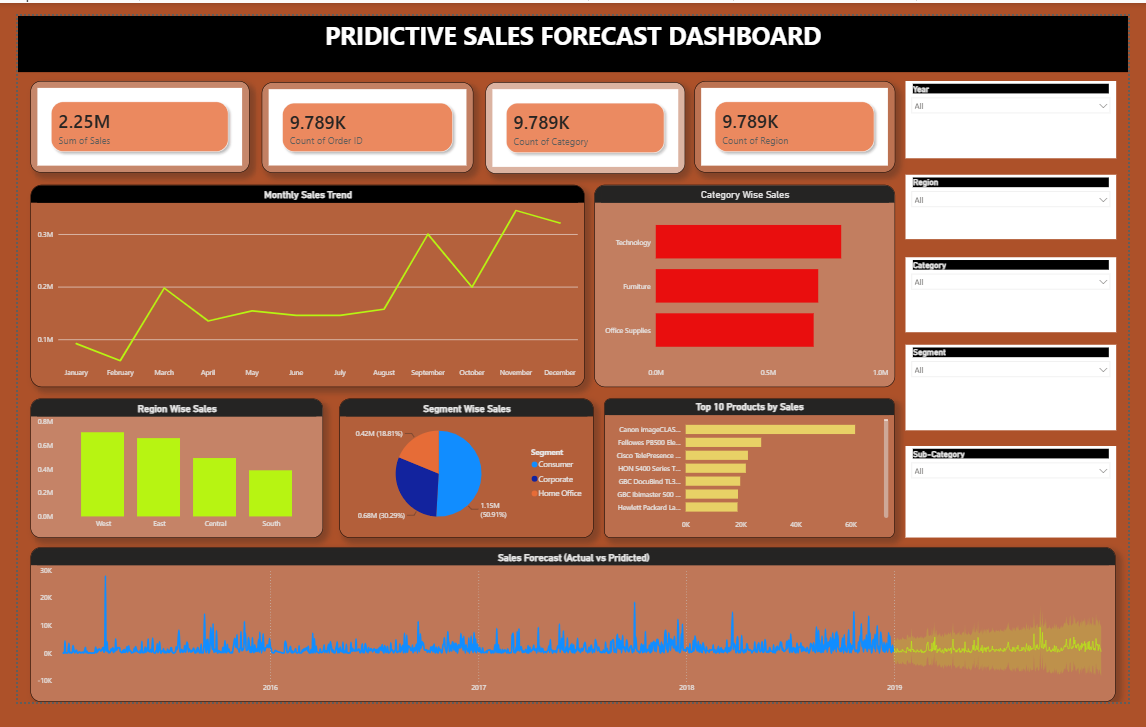

Layout of this report page (visuals, bound fields, positions):
{"tool":"powerbi","page":{"name":"Page 1","canvas":[1930,1194],"ordinal":0},"visuals":[{"type":"textbox","box":[0,0,1930.4,97.2],"z":0},{"type":"lineChart","title":"Monthly Sales Trend","fields":{"Category":["Cleaned_Superstore_Sales (1).Order Date.Variation.Date Hierarchy.Month"],"Y":["Sum(Cleaned_Superstore_Sales (1).Sales)"]},"box":[22.8,293.8,964.2,351.7],"z":1},{"type":"cardVisual","fields":{"Data":["Sum(Cleaned_Superstore_Sales (1).Sales)"]},"box":[22.8,113.8,380.7,159.3],"z":2},{"type":"cardVisual","fields":{"Data":["CountNonNull(Cleaned_Superstore_Sales (1).Order ID)"]},"box":[424.2,115.9,368.3,157.2],"z":3},{"type":"cardVisual","fields":{"Data":["CountNonNull(Cleaned_Superstore_Sales (1).Category)"]},"box":[813.1,115.9,347.6,159.3],"z":4},{"type":"cardVisual","fields":{"Data":["CountNonNull(Cleaned_Superstore_Sales (1).Region)"]},"box":[1175.2,113.8,349.7,159.3],"z":5},{"type":"barChart","title":"Category Wise Sales","fields":{"Category":["Cleaned_Superstore_Sales (1).Category"],"Y":["Sum(Cleaned_Superstore_Sales (1).Sales)"]},"box":[1001.4,293.8,523.5,351.7],"z":6},{"type":"columnChart","title":"Region Wise Sales","fields":{"Category":["Cleaned_Superstore_Sales (1).Region"],"Y":["Sum(Cleaned_Superstore_Sales (1).Sales)"]},"box":[22.8,664.2,509,242.1],"z":7},{"type":"pieChart","title":"Segment Wise Sales","fields":{"Category":["Cleaned_Superstore_Sales (1).Segment"],"Y":["Sum(Cleaned_Superstore_Sales (1).Sales)"]},"box":[558.6,664.2,442.8,242.1],"z":8},{"type":"barChart","title":"Top 10 Products by Sales","fields":{"Category":["Cleaned_Superstore_Sales (1).Product Name"],"Y":["Sum(Cleaned_Superstore_Sales (1).Sales)"]},"box":[1020,664.2,504.8,242.1],"z":9},{"type":"lineChart","title":"Sales Forecast (Actual vs Pridicted)","fields":{"Y":["Sum(Cleaned_Superstore_Sales (1).Sales)"],"Category":["Cleaned_Superstore_Sales (1).Order Date"]},"box":[22.8,924.9,1887,269],"z":10},{"type":"slicer","fields":{"Values":["Cleaned_Superstore_Sales (1).Order Date.Variation.Date Hierarchy.Year"]},"box":[1543.5,113.8,366.2,134.5],"z":11},{"type":"slicer","fields":{"Values":["Cleaned_Superstore_Sales (1).Region"]},"box":[1543.5,275.2,366.2,111.7],"z":12},{"type":"slicer","fields":{"Values":["Cleaned_Superstore_Sales (1).Category"]},"box":[1543.5,420,366.2,130.3],"z":13},{"type":"slicer","fields":{"Values":["Cleaned_Superstore_Sales (1).Segment"]},"box":[1543.5,571.1,366.2,149],"z":14},{"type":"slicer","fields":{"Values":["Cleaned_Superstore_Sales (1).Sub-Category"]},"box":[1543.5,746.9,366.2,159.3],"z":15}]}

Visuals, with their boxes in screenshot pixels (x1, y1, x2, y2), scaled from the page's 1930x1194 canvas onto the 1146x727 screenshot:
textbox: [x1=0, y1=0, x2=1145, y2=59]
"Monthly Sales Trend" lineChart: [x1=14, y1=179, x2=586, y2=393]
cardVisual - Sum(Cleaned_Superstore_Sales (1).Sales): [x1=14, y1=69, x2=240, y2=166]
cardVisual - CountNonNull(Cleaned_Superstore_Sales (1).Order ID): [x1=252, y1=71, x2=471, y2=166]
cardVisual - CountNonNull(Cleaned_Superstore_Sales (1).Category): [x1=483, y1=71, x2=689, y2=168]
cardVisual - CountNonNull(Cleaned_Superstore_Sales (1).Region): [x1=698, y1=69, x2=905, y2=166]
"Category Wise Sales" barChart: [x1=595, y1=179, x2=905, y2=393]
"Region Wise Sales" columnChart: [x1=14, y1=404, x2=316, y2=552]
"Segment Wise Sales" pieChart: [x1=332, y1=404, x2=595, y2=552]
"Top 10 Products by Sales" barChart: [x1=606, y1=404, x2=905, y2=552]
"Sales Forecast (Actual vs Pridicted)" lineChart: [x1=14, y1=563, x2=1134, y2=726]
slicer - Cleaned_Superstore_Sales (1).Order Date.Variation.Date Hierarchy.Year: [x1=917, y1=69, x2=1134, y2=151]
slicer - Cleaned_Superstore_Sales (1).Region: [x1=917, y1=168, x2=1134, y2=236]
slicer - Cleaned_Superstore_Sales (1).Category: [x1=917, y1=256, x2=1134, y2=335]
slicer - Cleaned_Superstore_Sales (1).Segment: [x1=917, y1=348, x2=1134, y2=438]
slicer - Cleaned_Superstore_Sales (1).Sub-Category: [x1=917, y1=455, x2=1134, y2=552]
